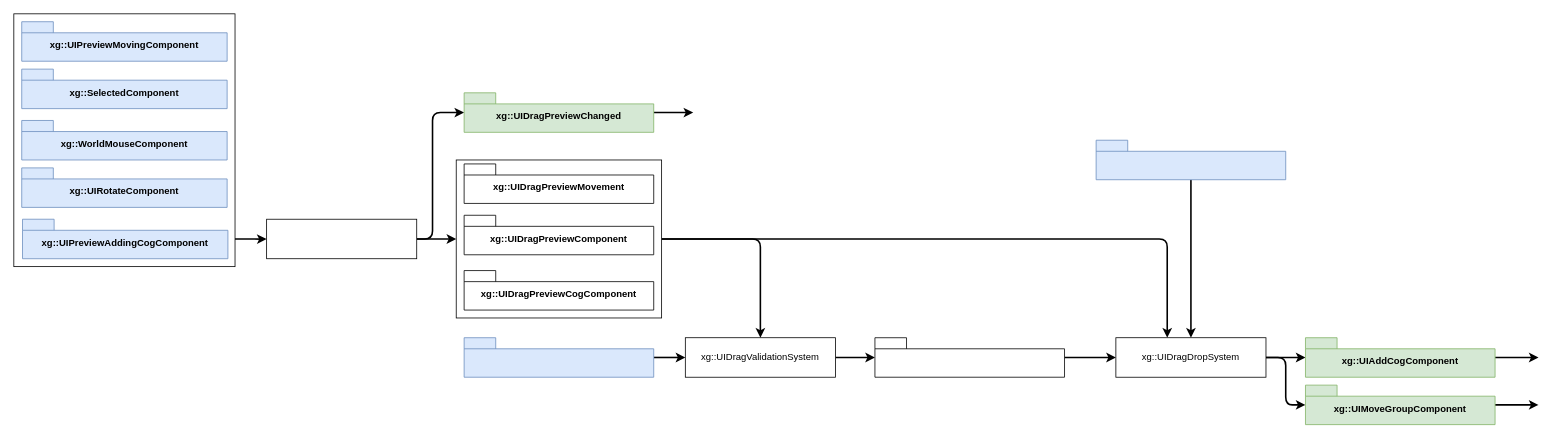
The diagram is 1559 pixels wide and 438 high, and some of its shapes have lost their labels. Each missing label, with the box of its shape:
xg::GridAttachmentsComponent: (463, 337, 654, 377)
xg::UIDraggingDropComponent: (1095, 139, 1286, 180)
xg::UIDragPreviewSystem: (266, 218, 417, 259)
xg::UIDragValidComponent: (874, 337, 1065, 377)
